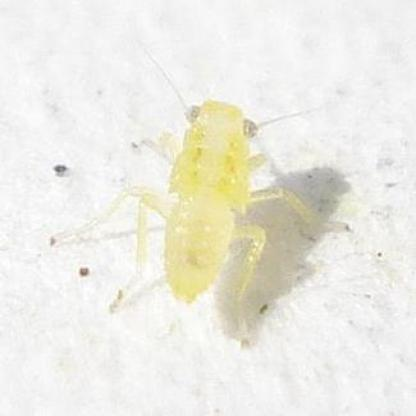green-leafhopper: (140, 100, 264, 308)
